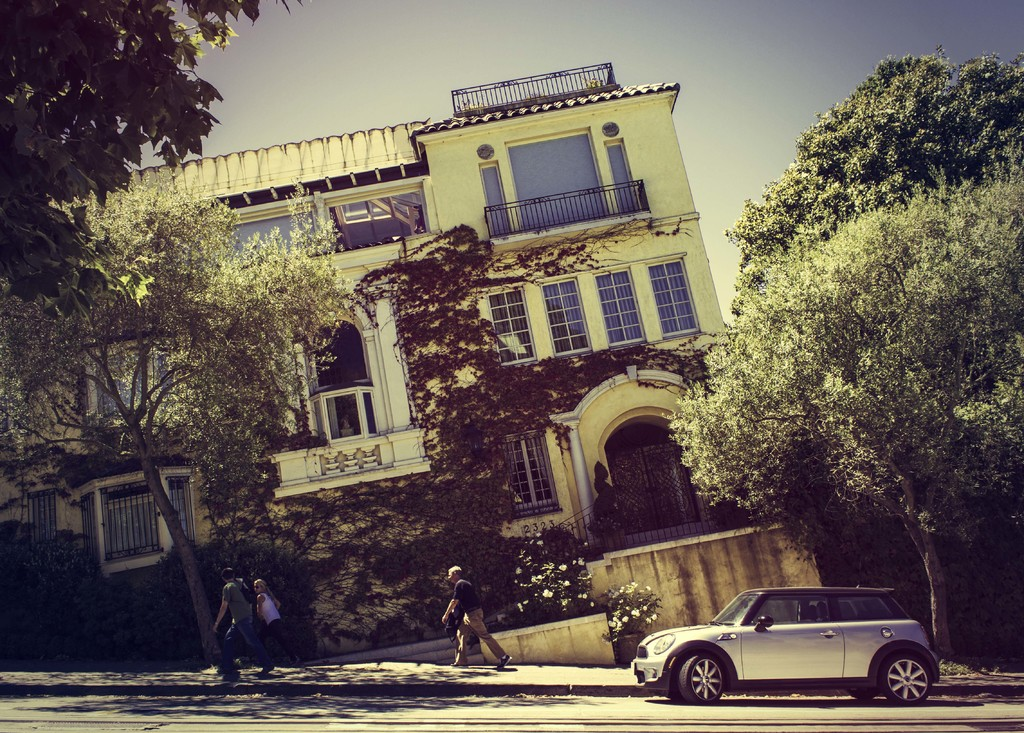Car: (642, 586, 949, 711)
